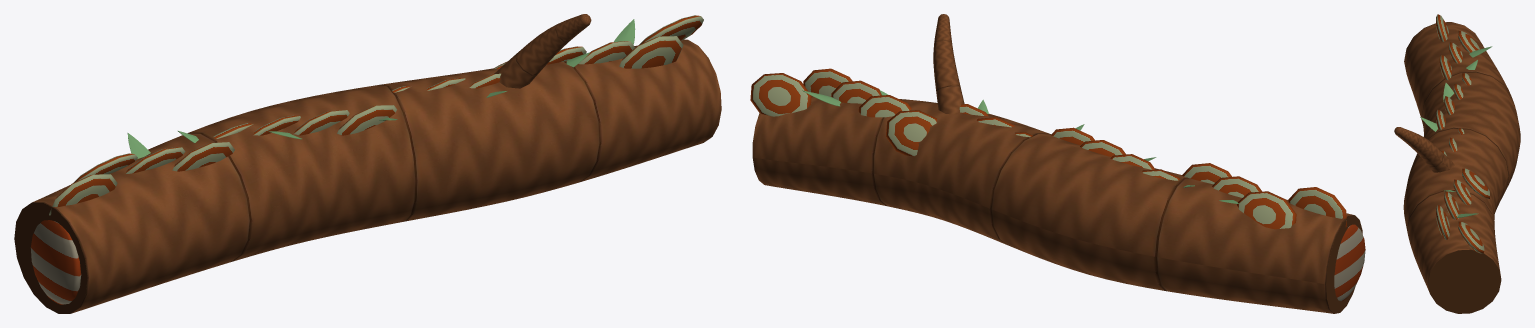
File: birds-and-reptiles-hd-mossy-log-b2588cc4__28114.glb
The picture shows the model from 3 angles, left to right: view 1: azimuth 30°, elevation 25°; view 2: azimuth 150°, elevation 25°; view 3: azimuth 270°, elevation 25°; orthographic projection. The views are drawn at different scales.
Visible parts, largest first — view 1: mossy-log; view 2: mossy-log; view 3: mossy-log.
Boxes of the visible parts, x1,y1,x2,y2 form: mossy-log: (14, 14, 721, 313); mossy-log: (750, 14, 1365, 313); mossy-log: (1394, 14, 1520, 313).
Bounding box in the file's own units: 2.13 × 0.6042 × 0.4966.
Materials: 4 (4 with a texture image).
